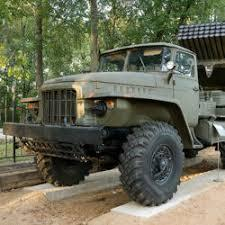MIL_SAM_TEL: (7, 22, 225, 209)
